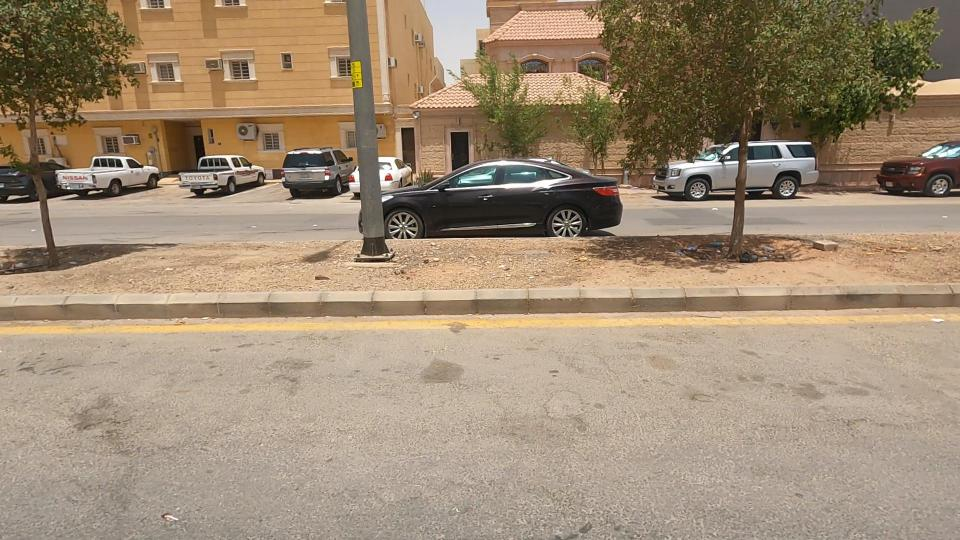GARBAGE: (644, 216, 750, 279), (0, 228, 66, 299), (721, 232, 788, 289)
